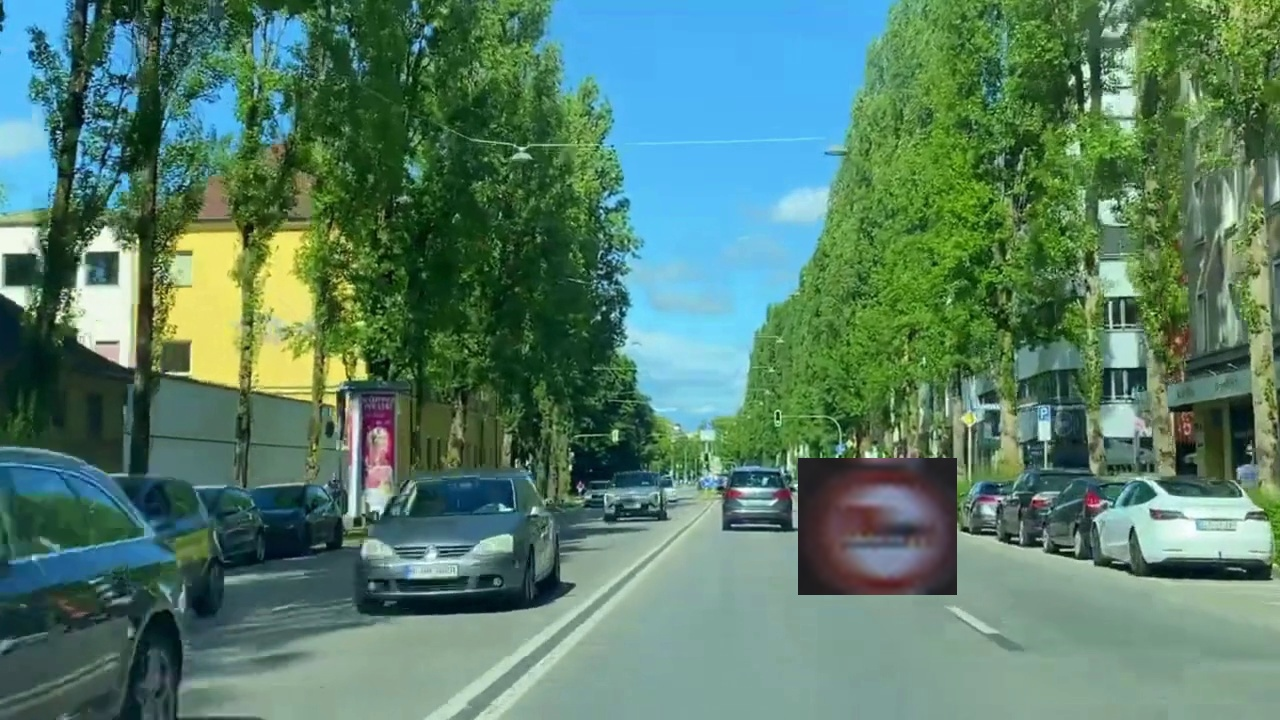No pass >3.5t: (798, 458, 957, 595)
